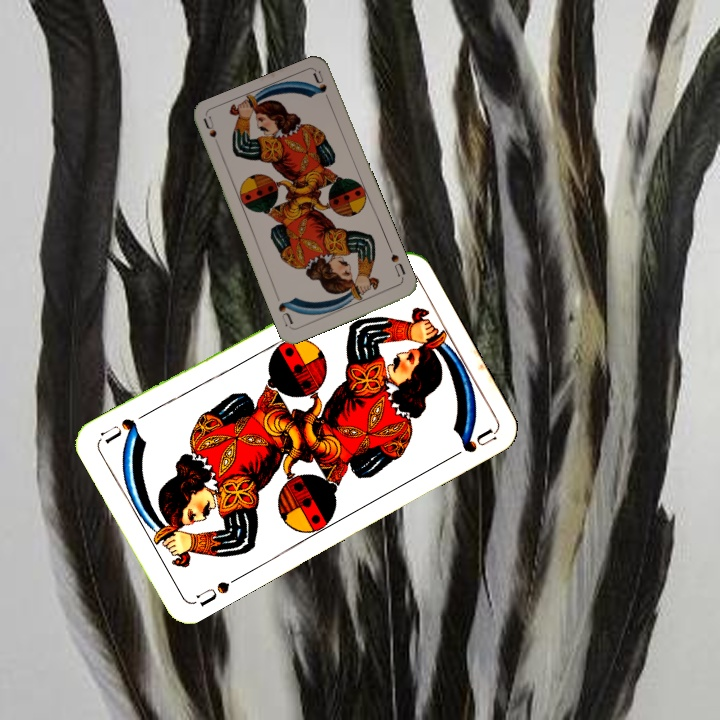SU: (192, 577, 233, 609), (200, 113, 224, 153), (385, 244, 408, 279)
